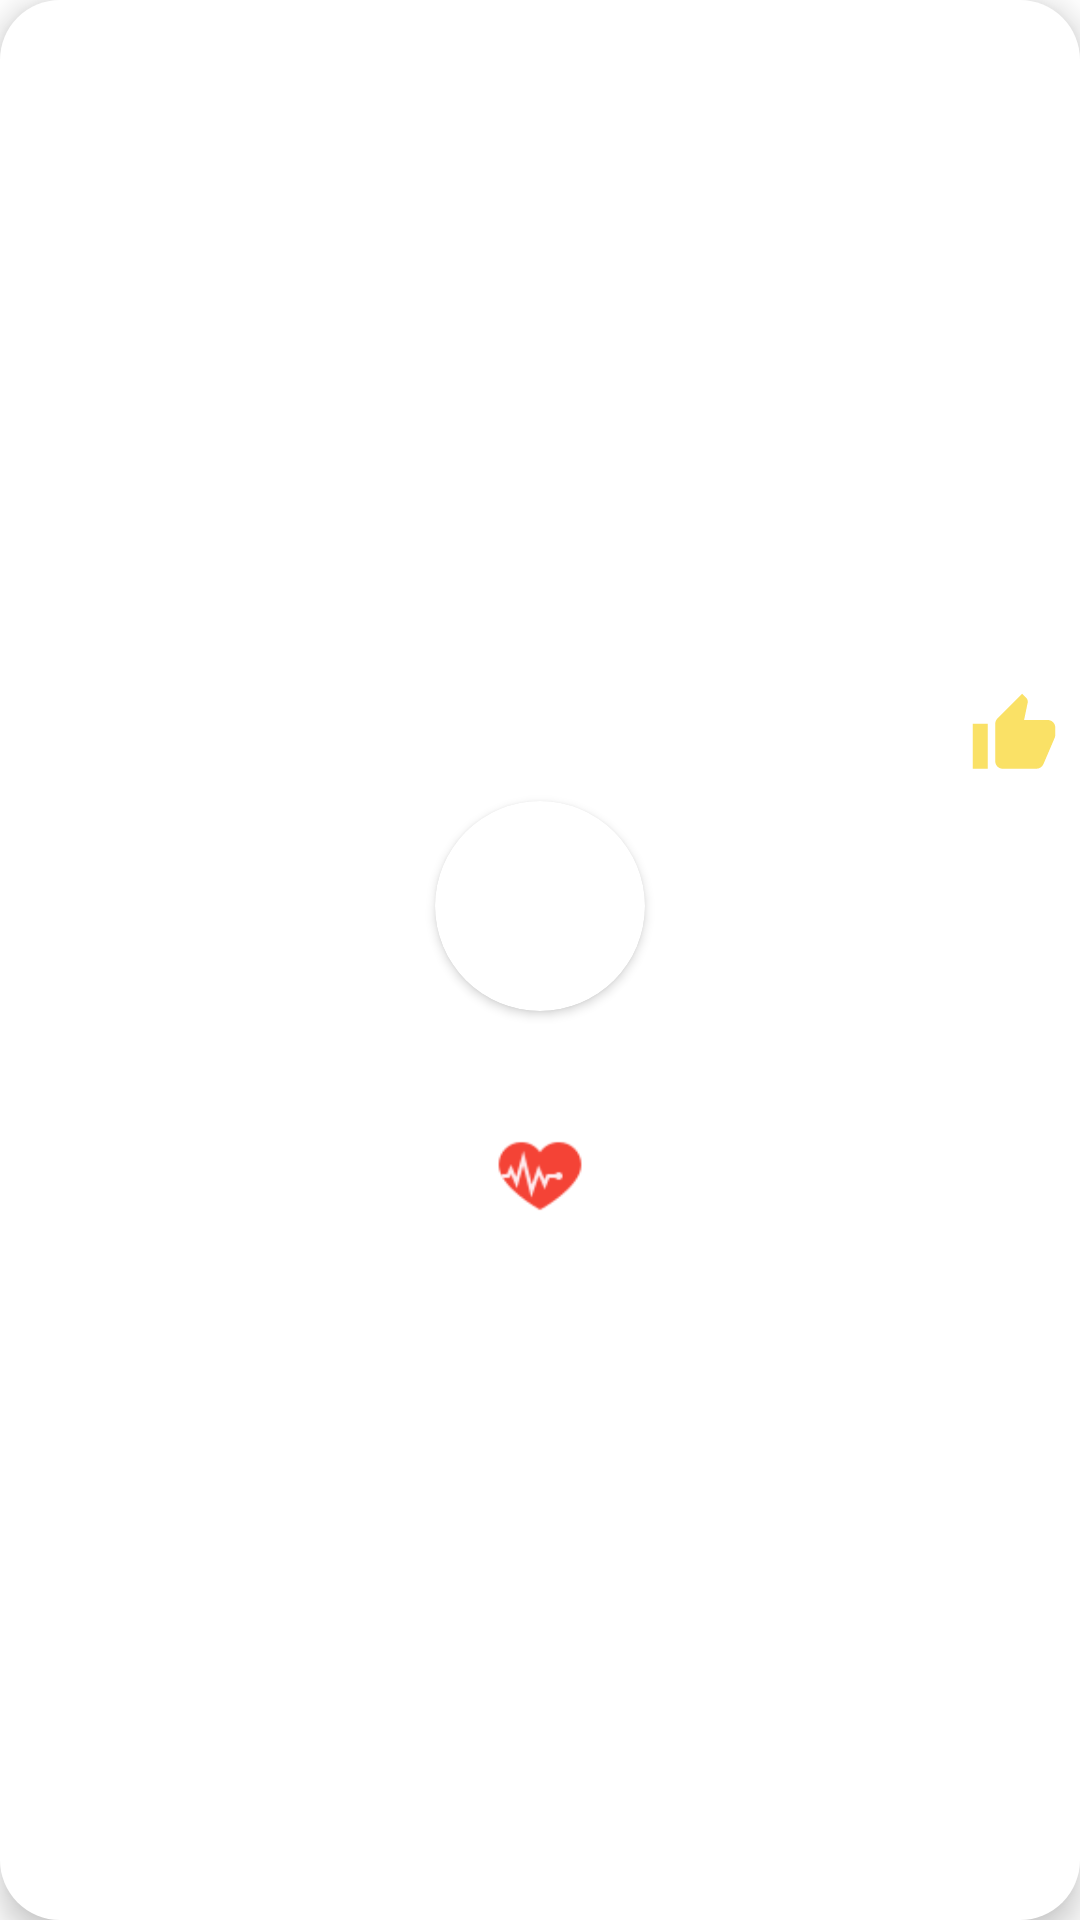

Where to tap for icons on this 1080×1920 app screen, as (x,y):
heart: (540,1176)
thumb up: (1014,731)
